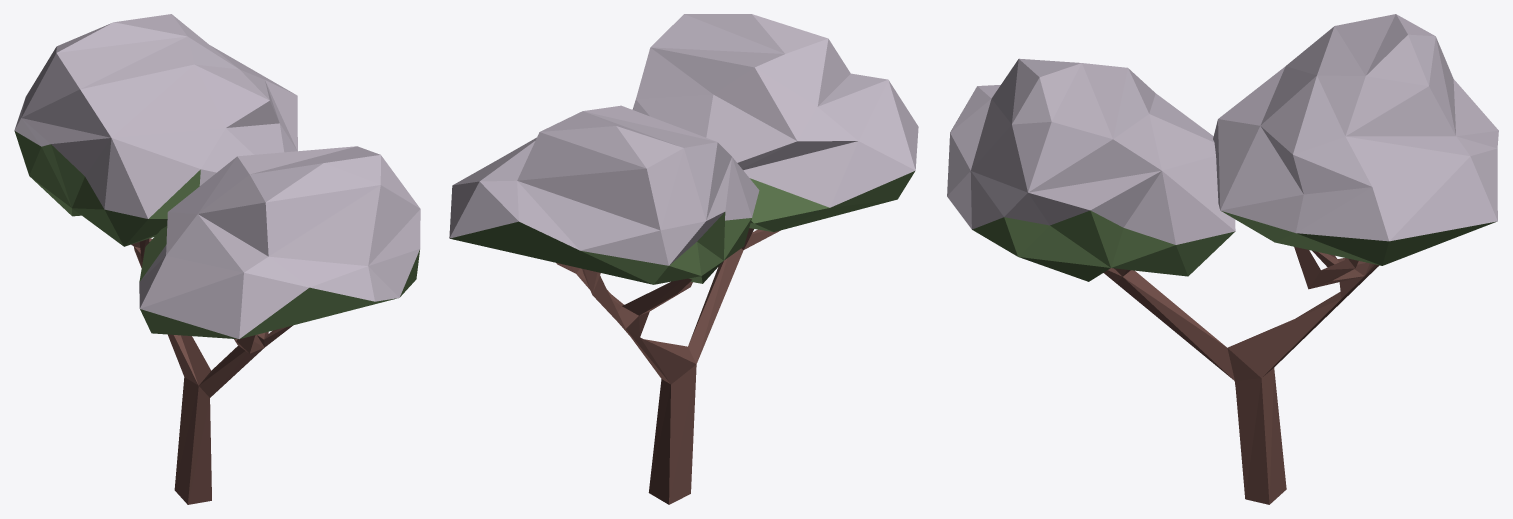
File: CommonTree_Snow_1.lod3.glb
3 renders of one model, left to right at view 1: azimuth 30°, elevation 25°; view 2: azimuth 150°, elevation 25°; view 3: azimuth 270°, elevation 25°, orthographic. The views are drawn at different scales.
Visible parts, largest first — view 1: CommonTree_Snow_1; view 2: CommonTree_Snow_1; view 3: CommonTree_Snow_1.
Part boxes in pixels (left/top/right/bottom): CommonTree_Snow_1: left=14, top=14, right=420, bottom=504; CommonTree_Snow_1: left=449, top=14, right=918, bottom=504; CommonTree_Snow_1: left=947, top=14, right=1498, bottom=504.
Size of the model in its own units: 1.91 by 2.49 by 2.75.
